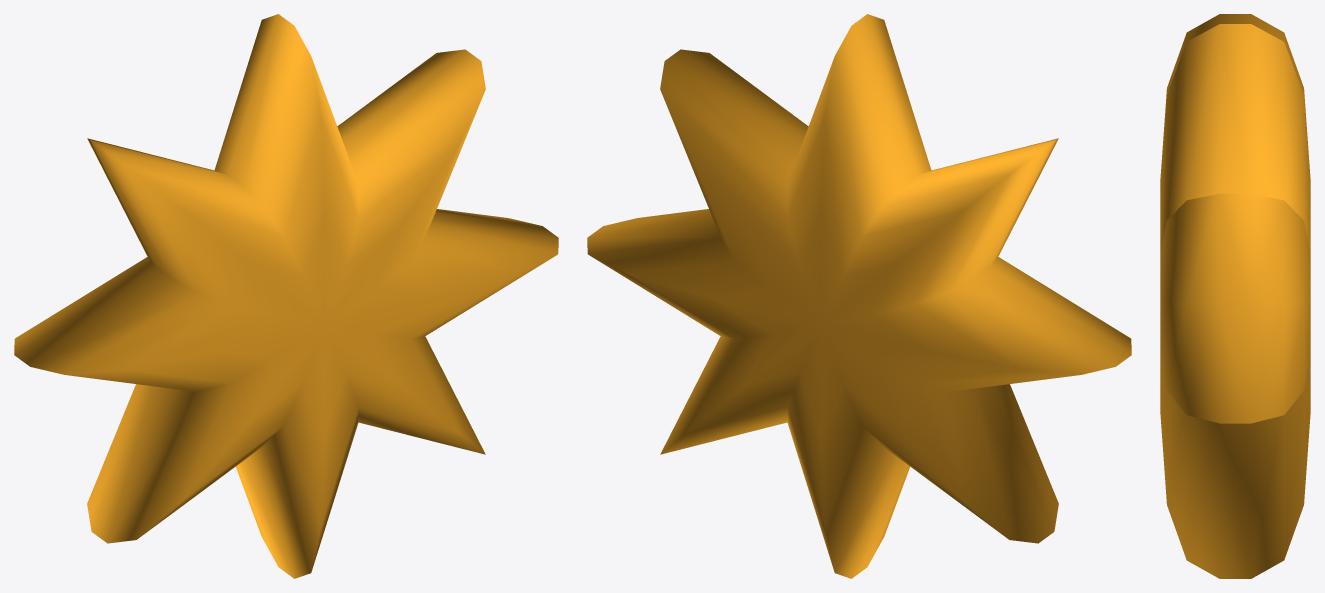
The model's file is 04-STAR-08.fbx.
The picture shows the model from 3 angles, left to right: view 1: azimuth 30°, elevation 25°; view 2: azimuth 150°, elevation 25°; view 3: azimuth 270°, elevation 25°; orthographic projection.
Parts seen in each view (by area): view 1: 04-STAR-08; view 2: 04-STAR-08; view 3: 04-STAR-08.
Part boxes in pixels (x1,y1,x2,y2): 04-STAR-08: (14,14,558,578); 04-STAR-08: (587,14,1131,578); 04-STAR-08: (1160,14,1310,578).
Bounding box in the file's own units: 400 × 400 × 100.
